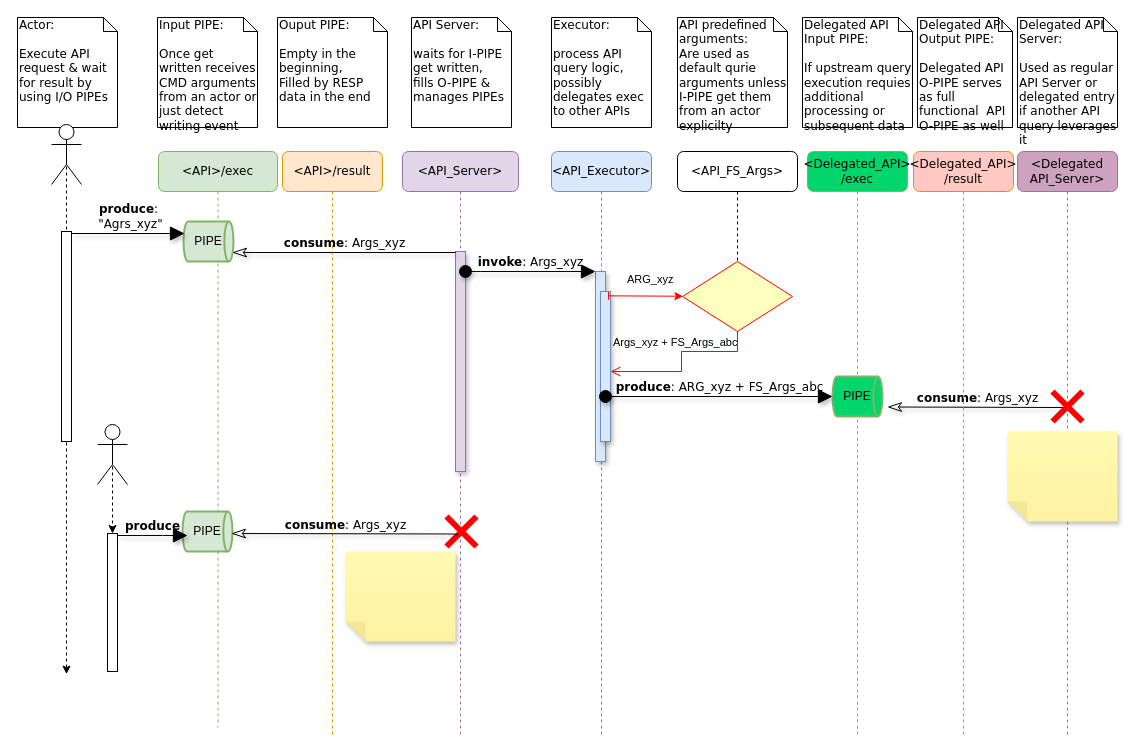
Some shapes in this 1141 by 755 pixel diagram are drawn without their labels. The centre of each missing label's shape, as x and y in pixels:
Client-side STUCK : client can't proceed: the point at 401,597
Server-side STUCK : server can't proceed: the point at 1063,477
Stucked Actor 2: the point at 112,454
Stucker Actor 1: the point at 66,154
Superposition: the point at 737,296
